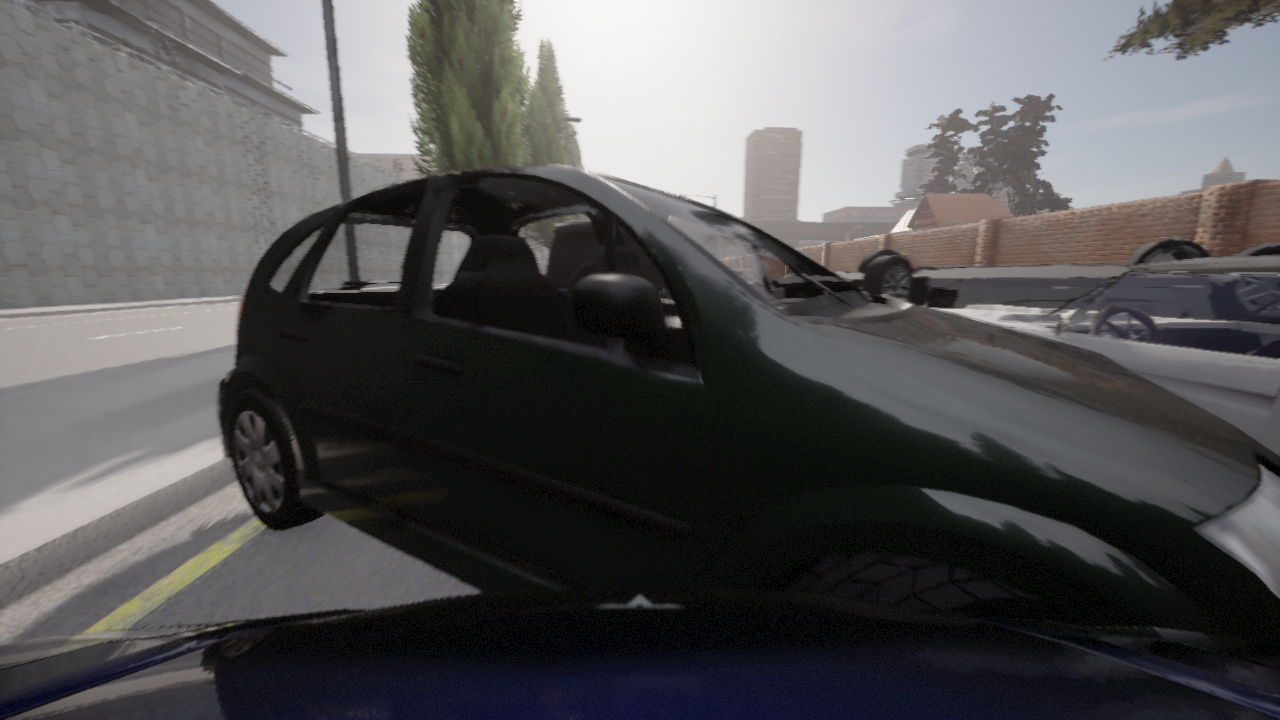cyclist: (215, 164, 1279, 644), (0, 588, 1279, 719), (931, 256, 1279, 454), (834, 238, 1279, 308)
pedestrian: (901, 251, 912, 268)
